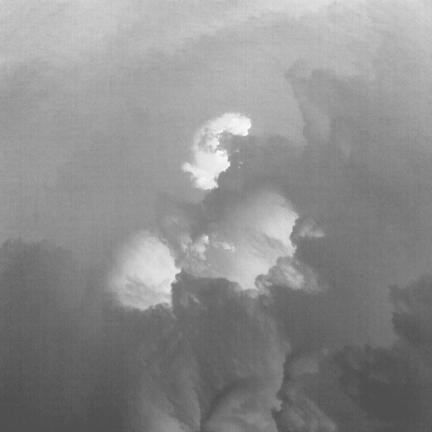flukeprints: (182, 148, 230, 190), (205, 113, 250, 135), (206, 136, 219, 150)
